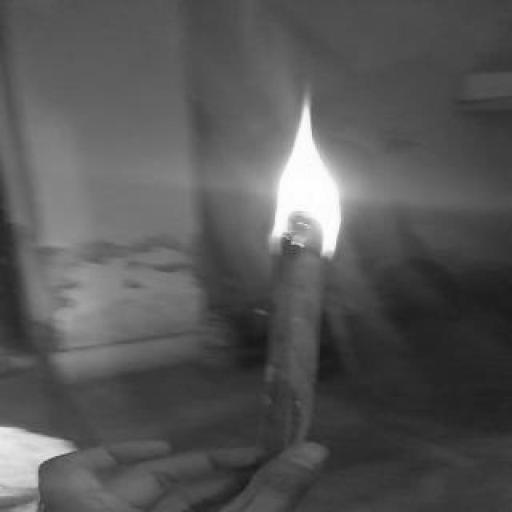smoke: (238, 74, 370, 266)
